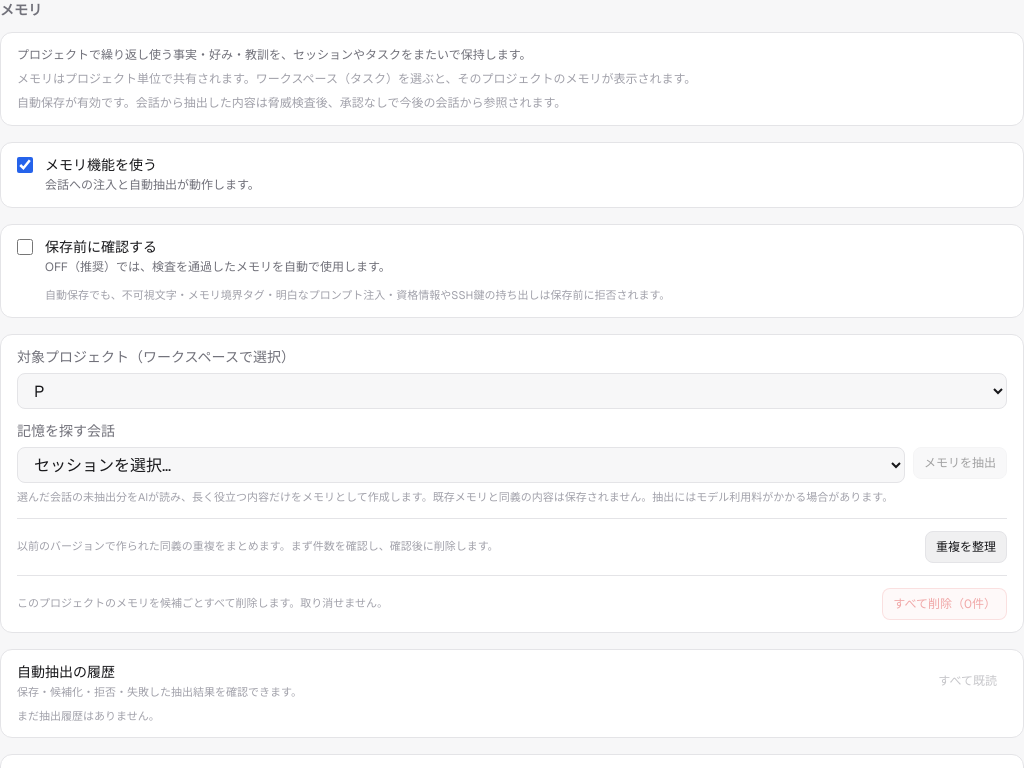
it: MemorySettings › runs a manual extraction with the selected workspace and session
This screenshot has width=1024, height=768.
Select "Sess" in the dropdown named "抽出元セッション" at (461, 465), box [17,447,905,483]
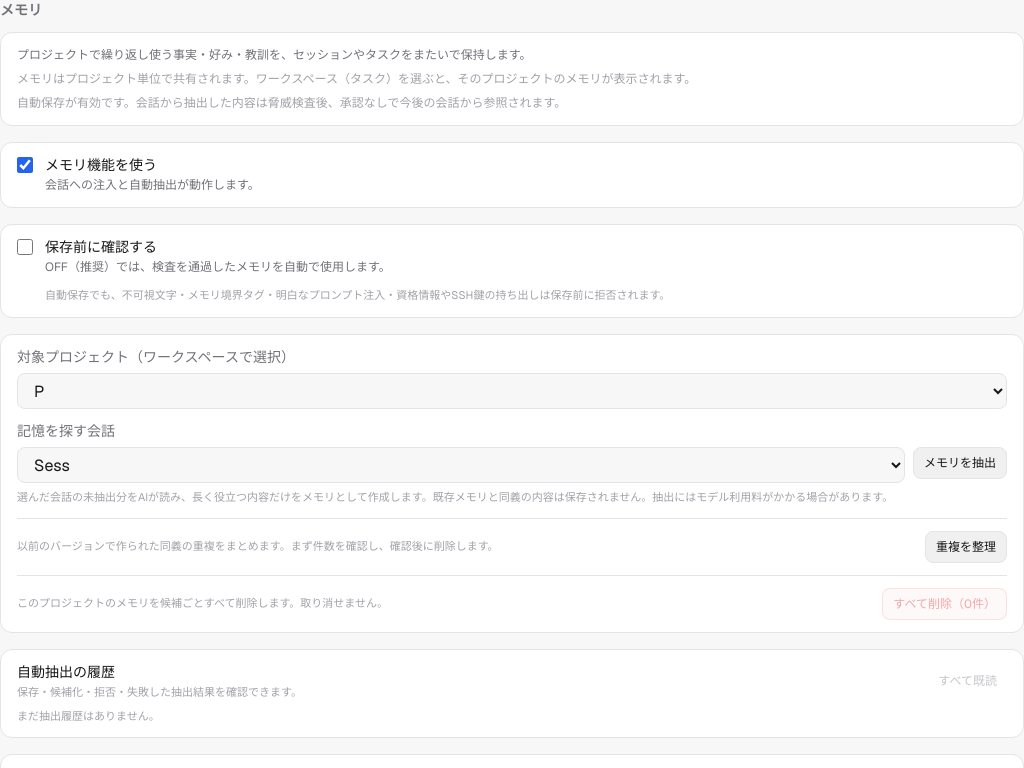
Expected: the button "メモリを抽出" is enabled
Click the button "メモリを抽出" at (960, 463), box [913,447,1007,479]
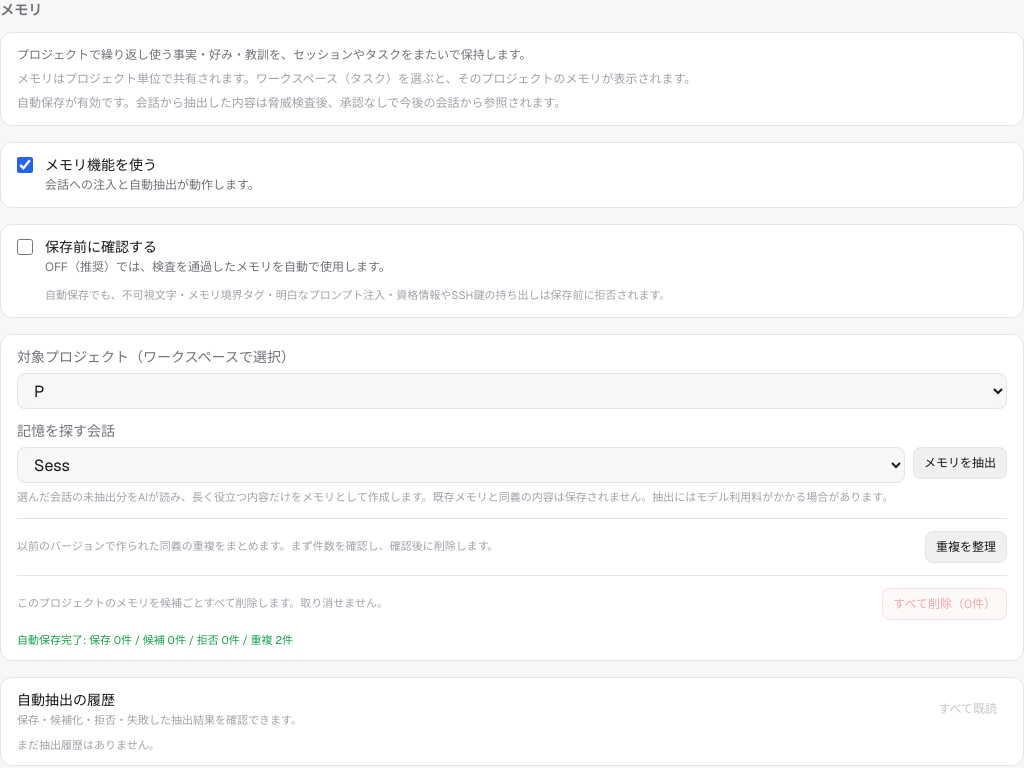
Expected: the text "自動保存完了: 保存 0件 / 候補 0件 / 拒否 0件 / 重複 2件" is shown, [17,632,293,646]
